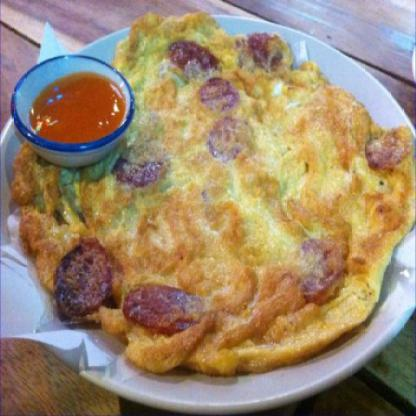Omelette: (23, 14, 412, 366)
